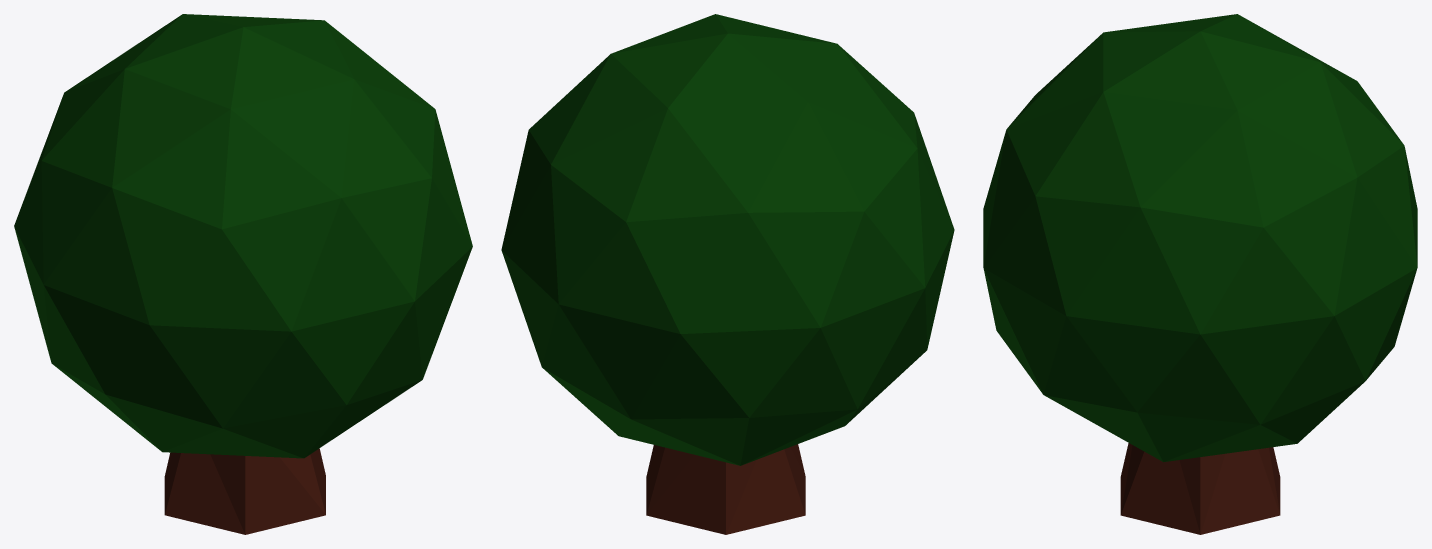
3 renders of one model, left to right at view 1: azimuth 30°, elevation 25°; view 2: azimuth 150°, elevation 25°; view 3: azimuth 270°, elevation 25°, orthographic.
Parts seen in each view (by area): view 1: bush_2_summer_mat_Icosphere.009; view 2: bush_2_summer_mat_Icosphere.009; view 3: bush_2_summer_mat_Icosphere.009.
Part boxes in pixels (box(x1,y1,x2,y2)): bush_2_summer_mat_Icosphere.009: box(14, 14, 472, 534); bush_2_summer_mat_Icosphere.009: box(501, 14, 954, 534); bush_2_summer_mat_Icosphere.009: box(983, 14, 1417, 534).
Bounding box in the file's own units: 1.41 × 1.58 × 1.34.
